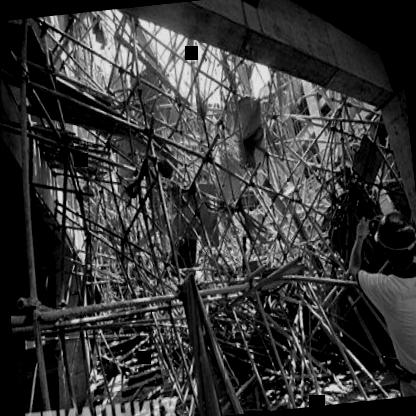helmet: (367, 208, 416, 274)
